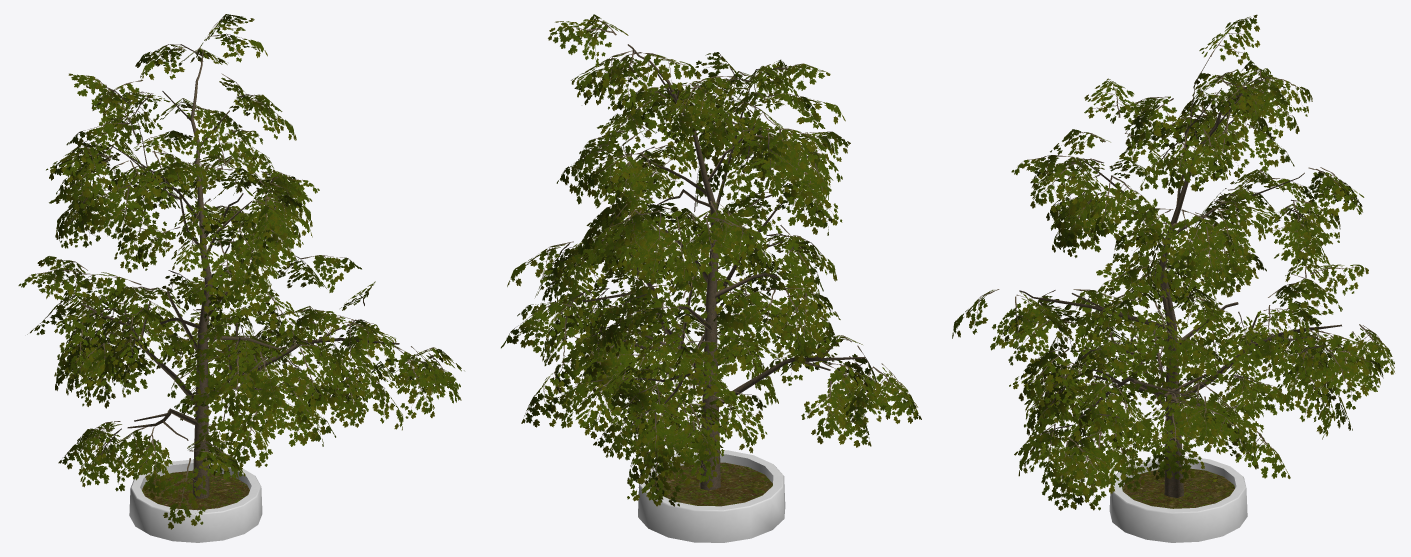
The model's file is nc_tree_07.fbx.
3 renders of one model, left to right at view 1: azimuth 30°, elevation 25°; view 2: azimuth 150°, elevation 25°; view 3: azimuth 270°, elevation 25°, orthographic. The views are drawn at different scales.
Visible parts, largest first — view 1: nc_tree_07_LOD0; view 2: nc_tree_07_LOD0; view 3: nc_tree_07_LOD0.
Part boxes in pixels (x1,y1,x2,y2): nc_tree_07_LOD0: (18,14,464,542); nc_tree_07_LOD0: (501,14,921,542); nc_tree_07_LOD0: (952,14,1394,542).
Size of what is drawn, in the model's own units: 3.33 by 3.7 by 3.21.
